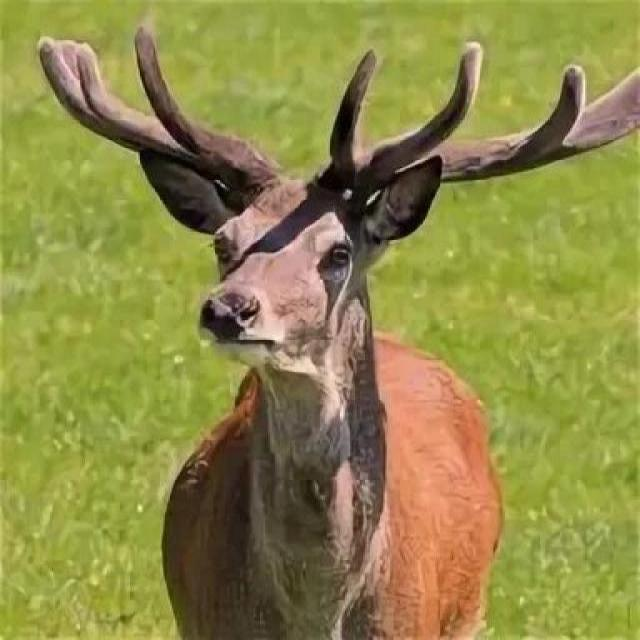deer: (34, 2, 583, 640)
